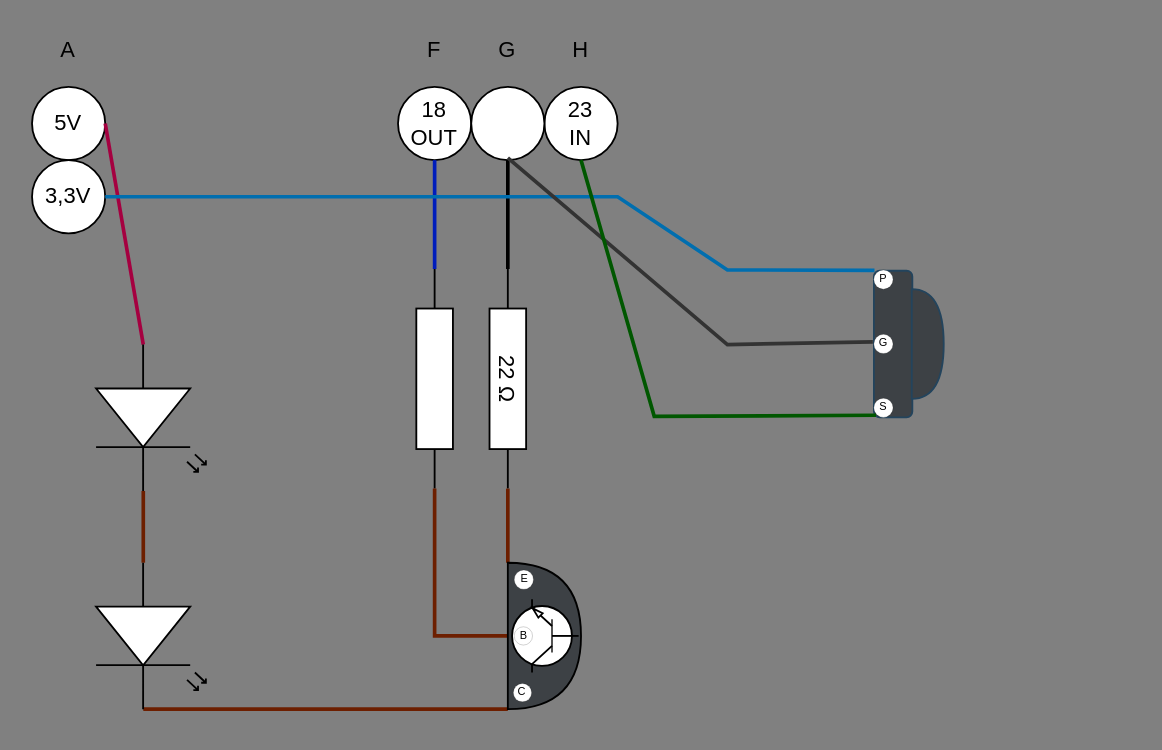
Image size: 1162x750. Some labels were removed from this diagram. The shapes that lost their labels are listed below. From the top down, each one's centre as x and y in pixels, then its label:
At [506,122]: "GND".
At [927,343]: "IR rec".
At [433,378]: "10 kΩ".
